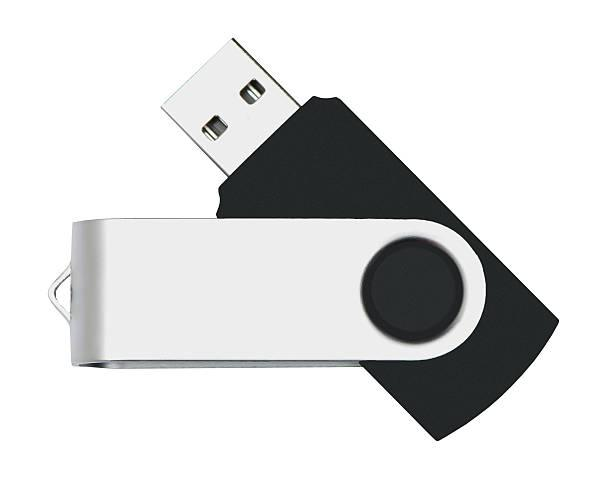USB Flash Drive: (160, 39, 558, 441)
